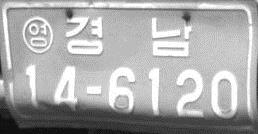-: (83, 83, 105, 98)
0: (210, 69, 240, 120)
1: (22, 62, 46, 114), (145, 67, 166, 118)
2: (174, 67, 206, 119)
4: (51, 64, 80, 114)
6: (107, 65, 138, 114)
경남_D: (63, 14, 194, 60)
영: (20, 15, 54, 55)
